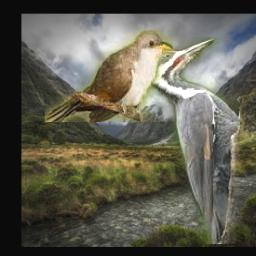Cuckoo: (45, 31, 173, 123)
Woodpecker: (128, 38, 241, 245)
